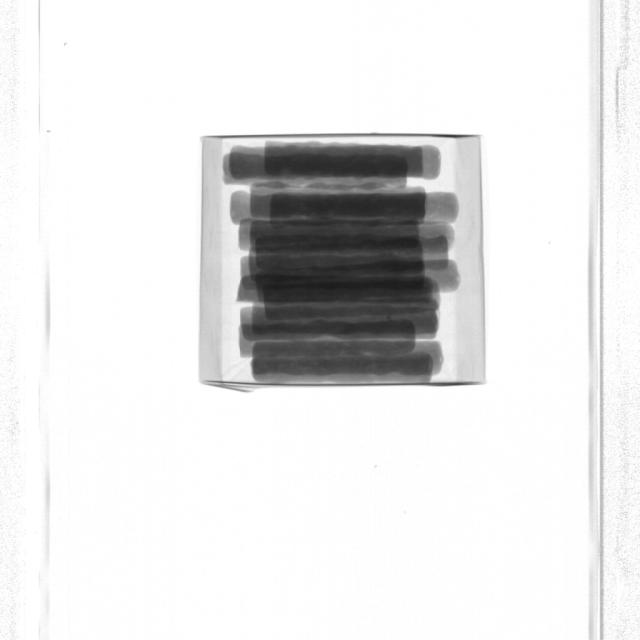ym: (387, 313, 393, 321)
